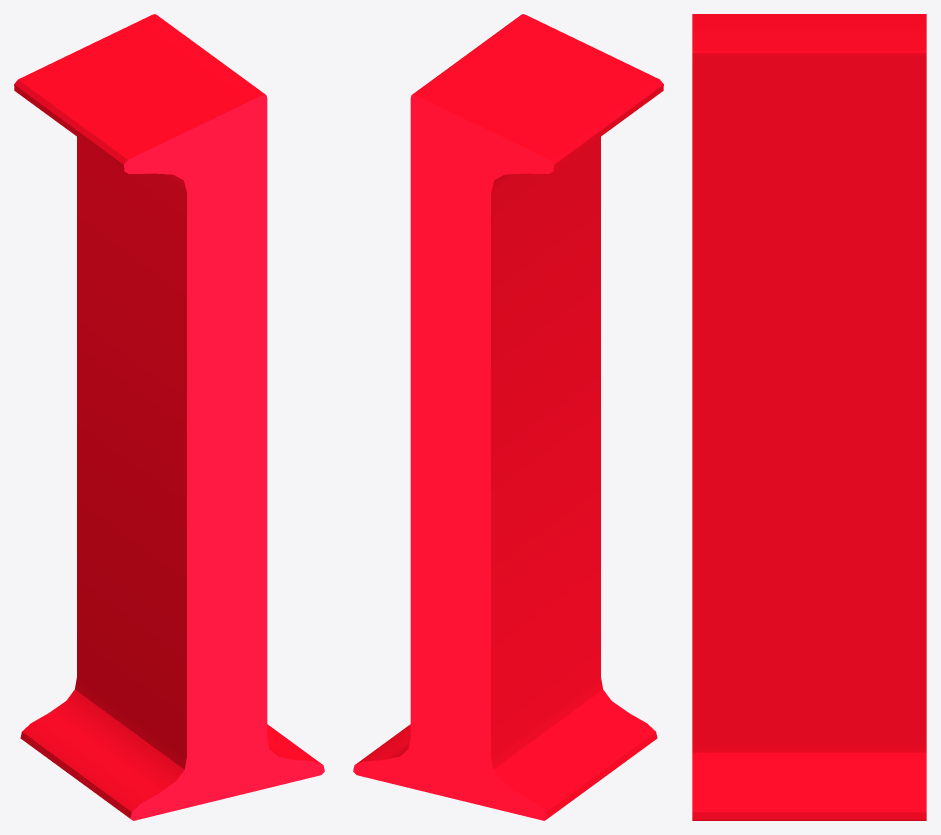
3 renders of one model, left to right at view 1: azimuth 30°, elevation 25°; view 2: azimuth 150°, elevation 25°; view 3: azimuth 270°, elevation 25°, orthographic. The views are drawn at different scales.
Parts seen in each view (by area): view 1: l_Soul_Red; view 2: l_Soul_Red; view 3: l_Soul_Red.
Boxes of the visible parts, x1,y1,x2,y2 form: l_Soul_Red: [14, 14, 324, 820]; l_Soul_Red: [353, 14, 663, 820]; l_Soul_Red: [692, 14, 926, 820].
Size of what is drawn, in the model's own units: 0.0475 by 0.1569 by 0.045.
Materials: 2 (2 with a texture image).
